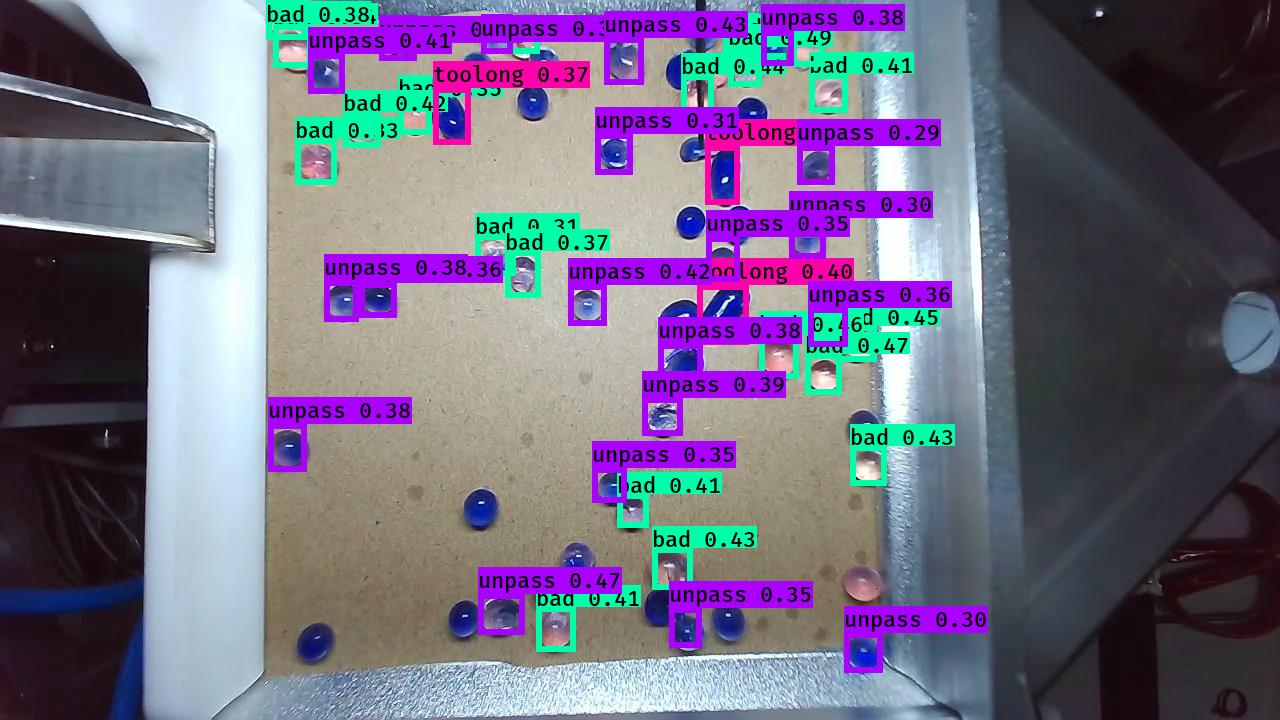bad: (647, 547, 692, 590), (678, 76, 719, 120), (841, 563, 885, 604), (275, 30, 318, 71), (298, 145, 340, 186), (760, 334, 799, 378), (535, 611, 576, 651), (849, 446, 889, 485), (789, 24, 822, 71), (472, 237, 515, 273), (723, 14, 758, 57), (509, 251, 540, 298), (504, 21, 541, 60), (838, 327, 877, 364), (397, 96, 432, 137), (805, 360, 844, 396), (697, 53, 732, 92), (813, 78, 850, 114), (731, 51, 765, 87), (267, 4, 304, 37), (616, 496, 649, 532), (344, 113, 380, 146)
defact: (678, 133, 719, 165)
pass: (296, 621, 336, 667), (358, 278, 401, 320), (529, 567, 570, 609), (658, 300, 701, 339), (643, 587, 683, 627), (847, 410, 883, 452), (660, 46, 696, 87), (464, 489, 499, 531), (712, 601, 747, 643), (382, 19, 417, 59), (722, 205, 755, 247), (734, 96, 769, 135), (516, 83, 549, 123), (449, 599, 480, 640), (463, 51, 495, 90), (674, 205, 706, 242)
toolong: (699, 280, 753, 346), (429, 88, 472, 147), (707, 146, 742, 208)
unpass: (603, 41, 644, 91), (478, 593, 523, 635), (659, 347, 704, 387), (267, 431, 311, 471), (845, 630, 884, 674), (327, 282, 367, 323), (798, 148, 837, 188), (308, 55, 346, 96), (645, 398, 681, 440), (706, 242, 739, 286), (789, 222, 827, 260), (558, 542, 596, 580), (808, 310, 845, 348), (669, 618, 708, 651), (600, 132, 632, 171), (757, 31, 788, 70), (572, 288, 604, 325), (595, 473, 630, 505), (481, 17, 511, 54), (527, 49, 560, 81)
